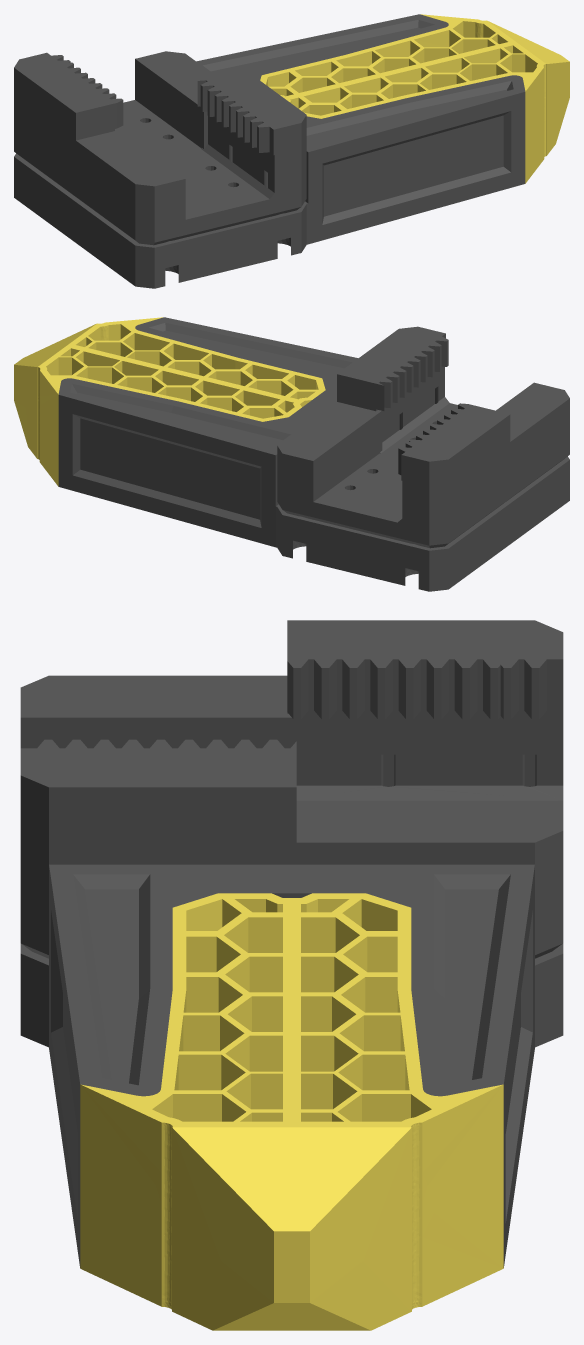
Rendered from jaws_soft_tpu.glb.
3 views of the same model, one above another, from view 1: azimuth 30°, elevation 25°; view 2: azimuth 150°, elevation 25°; view 3: azimuth 270°, elevation 25° (orthographic). The views are drawn at different scales.
Parts seen in each view (by area): view 1: jaw2_1, jaw2_0, jaw1_0, fixed_jaw2_2, jaw1_1, fixed_jaw1_2; view 2: jaw1_1, jaw1_0, jaw2_0, fixed_jaw1_2, jaw2_1, fixed_jaw2_2; view 3: fixed_jaw2_2, fixed_jaw1_2, jaw1_0, jaw2_0, jaw1_1, jaw2_1.
Part boxes in pixels (x1,y1,x2,y2): jaw2_1: [73, 75, 525, 288]; jaw2_0: [75, 69, 306, 245]; jaw1_0: [14, 51, 215, 197]; fixed_jaw2_2: [284, 42, 569, 183]; jaw1_1: [14, 14, 448, 240]; fixed_jaw1_2: [260, 14, 565, 97]; jaw1_1: [58, 378, 510, 591]; jaw1_0: [277, 402, 510, 548]; jaw2_0: [337, 326, 569, 500]; fixed_jaw1_2: [14, 344, 301, 486]; jaw2_1: [135, 317, 569, 543]; fixed_jaw2_2: [20, 317, 325, 406]; fixed_jaw2_2: [80, 893, 296, 1330]; fixed_jaw1_2: [287, 893, 503, 1330]; jaw1_0: [287, 620, 563, 958]; jaw2_0: [20, 675, 296, 958]; jaw1_1: [287, 864, 563, 1267]; jaw2_1: [20, 864, 295, 1267].
Bounding box in the file's own units: 0.1003 × 0.0254 × 0.048.
